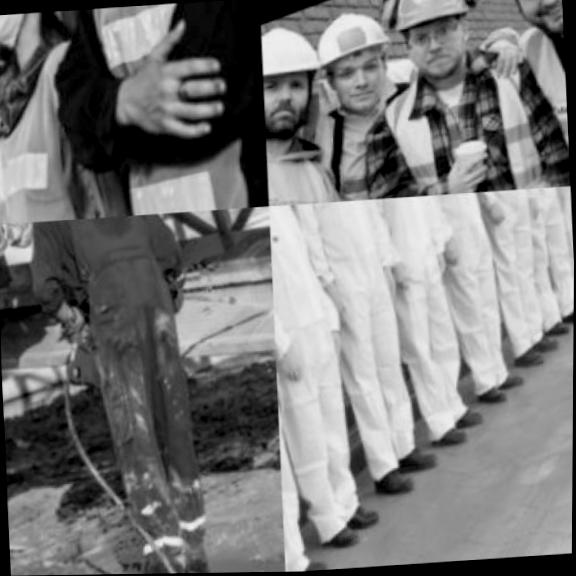safety_vest: (0, 207, 249, 576), (41, 0, 270, 219), (268, 195, 450, 467), (268, 199, 388, 521), (357, 33, 568, 198), (350, 192, 494, 422), (0, 9, 143, 223), (271, 43, 461, 204), (399, 189, 530, 385), (268, 203, 330, 571), (449, 186, 572, 343), (509, 0, 571, 187), (497, 185, 575, 297), (527, 185, 575, 280)
